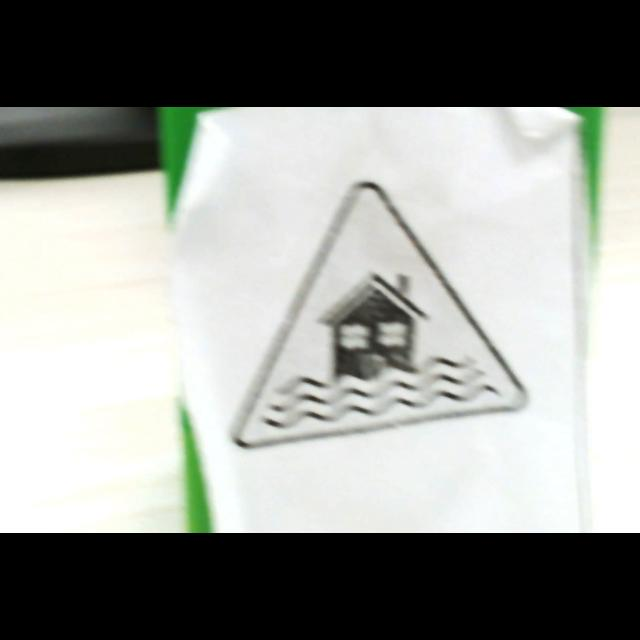Tsunami: (230, 181, 528, 449)
